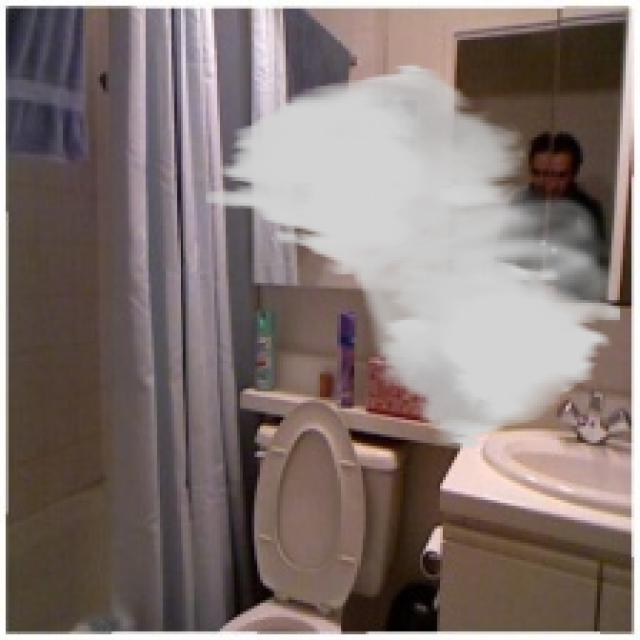smoke: (206, 63, 623, 451)
